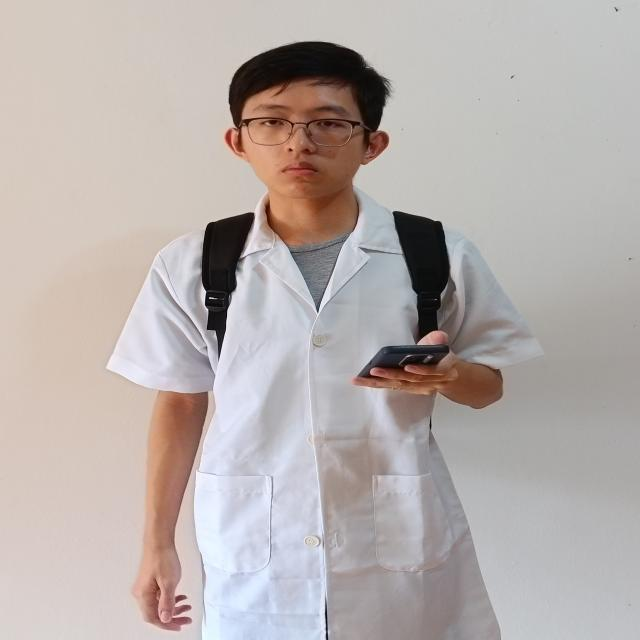person_with_labcoat: (108, 42, 543, 640)
